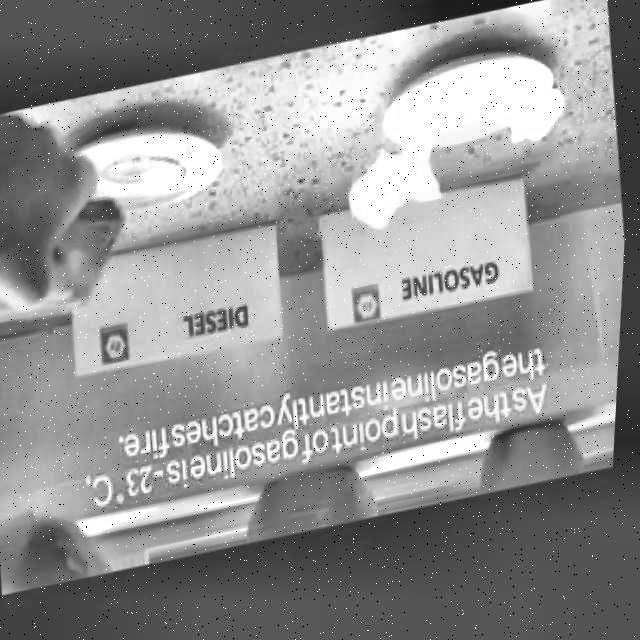Fire: (332, 53, 584, 253)
